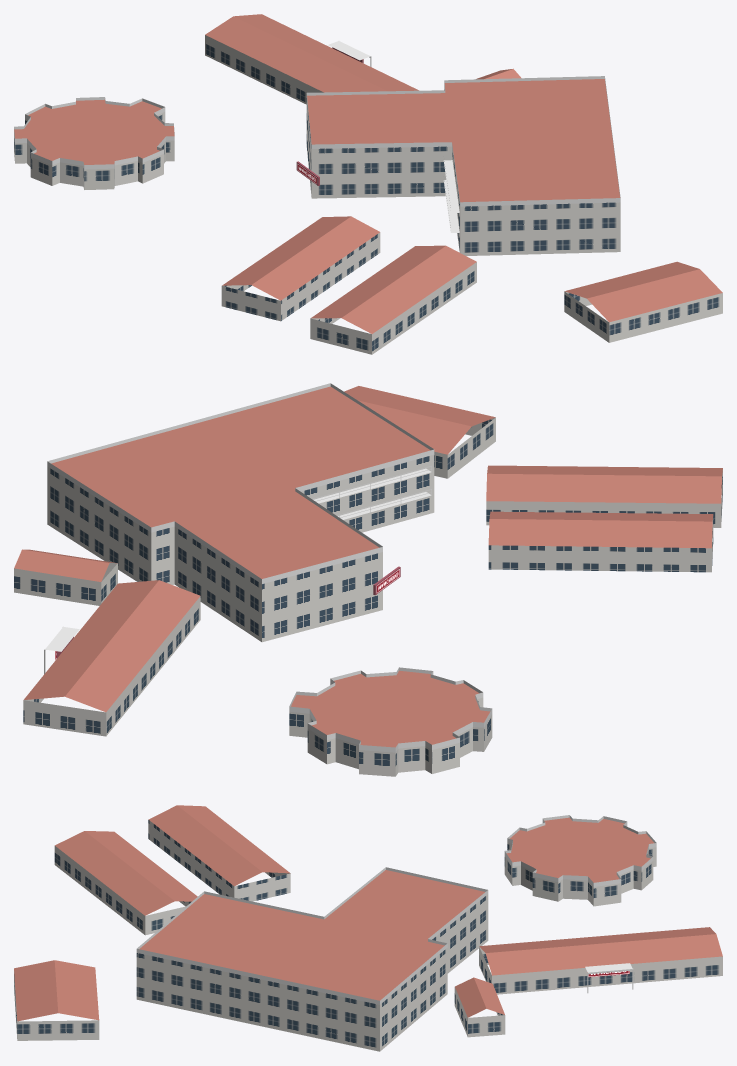
Rendered from m_manchebobeachresortspa.glb.
The picture shows the model from 3 angles, top to bottom: view 1: azimuth 30°, elevation 25°; view 2: azimuth 150°, elevation 25°; view 3: azimuth 270°, elevation 25°; orthographic projection. The views are drawn at different scales.
Visible parts, largest first — view 1: m_manchebobeachresortspa_lod0; view 2: m_manchebobeachresortspa_lod0; view 3: m_manchebobeachresortspa_lod0.
Boxes of the visible parts, x1,y1,x2,y2 form: m_manchebobeachresortspa_lod0: (14,14,722,354); m_manchebobeachresortspa_lod0: (14,383,722,776); m_manchebobeachresortspa_lod0: (14,805,722,1051).
Size of what is drawn, in the model's own units: 79 by 12.5 by 108.
Materials: 5 (2 with a texture image).
